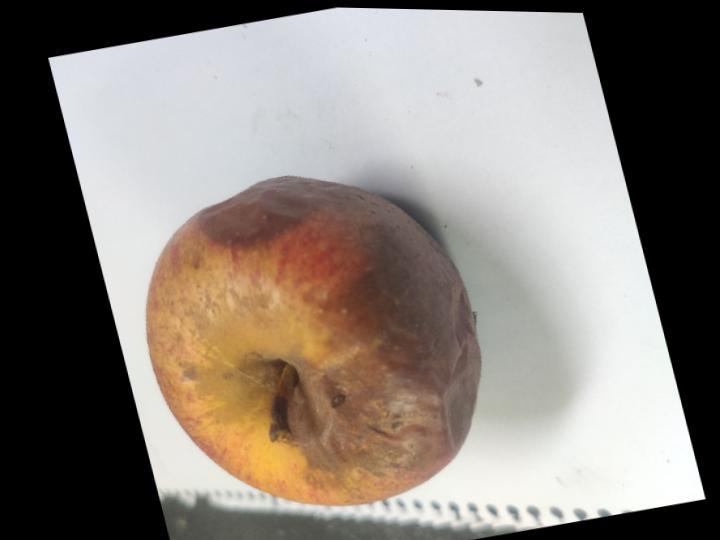apple: (145, 176, 479, 505)
rot_mold_decay: (268, 180, 479, 499), (197, 186, 301, 246)
